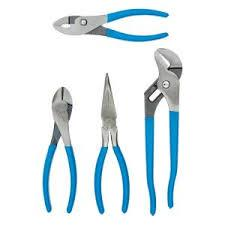pliers: (143, 46, 182, 215), (92, 71, 129, 214), (41, 85, 76, 213), (51, 7, 169, 42)
